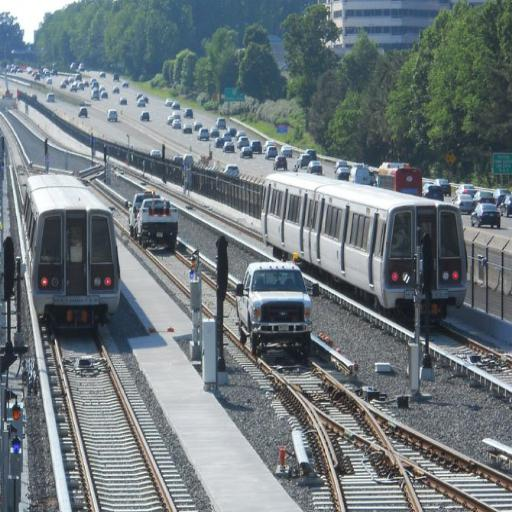platform_edge: (93, 344, 237, 512)
